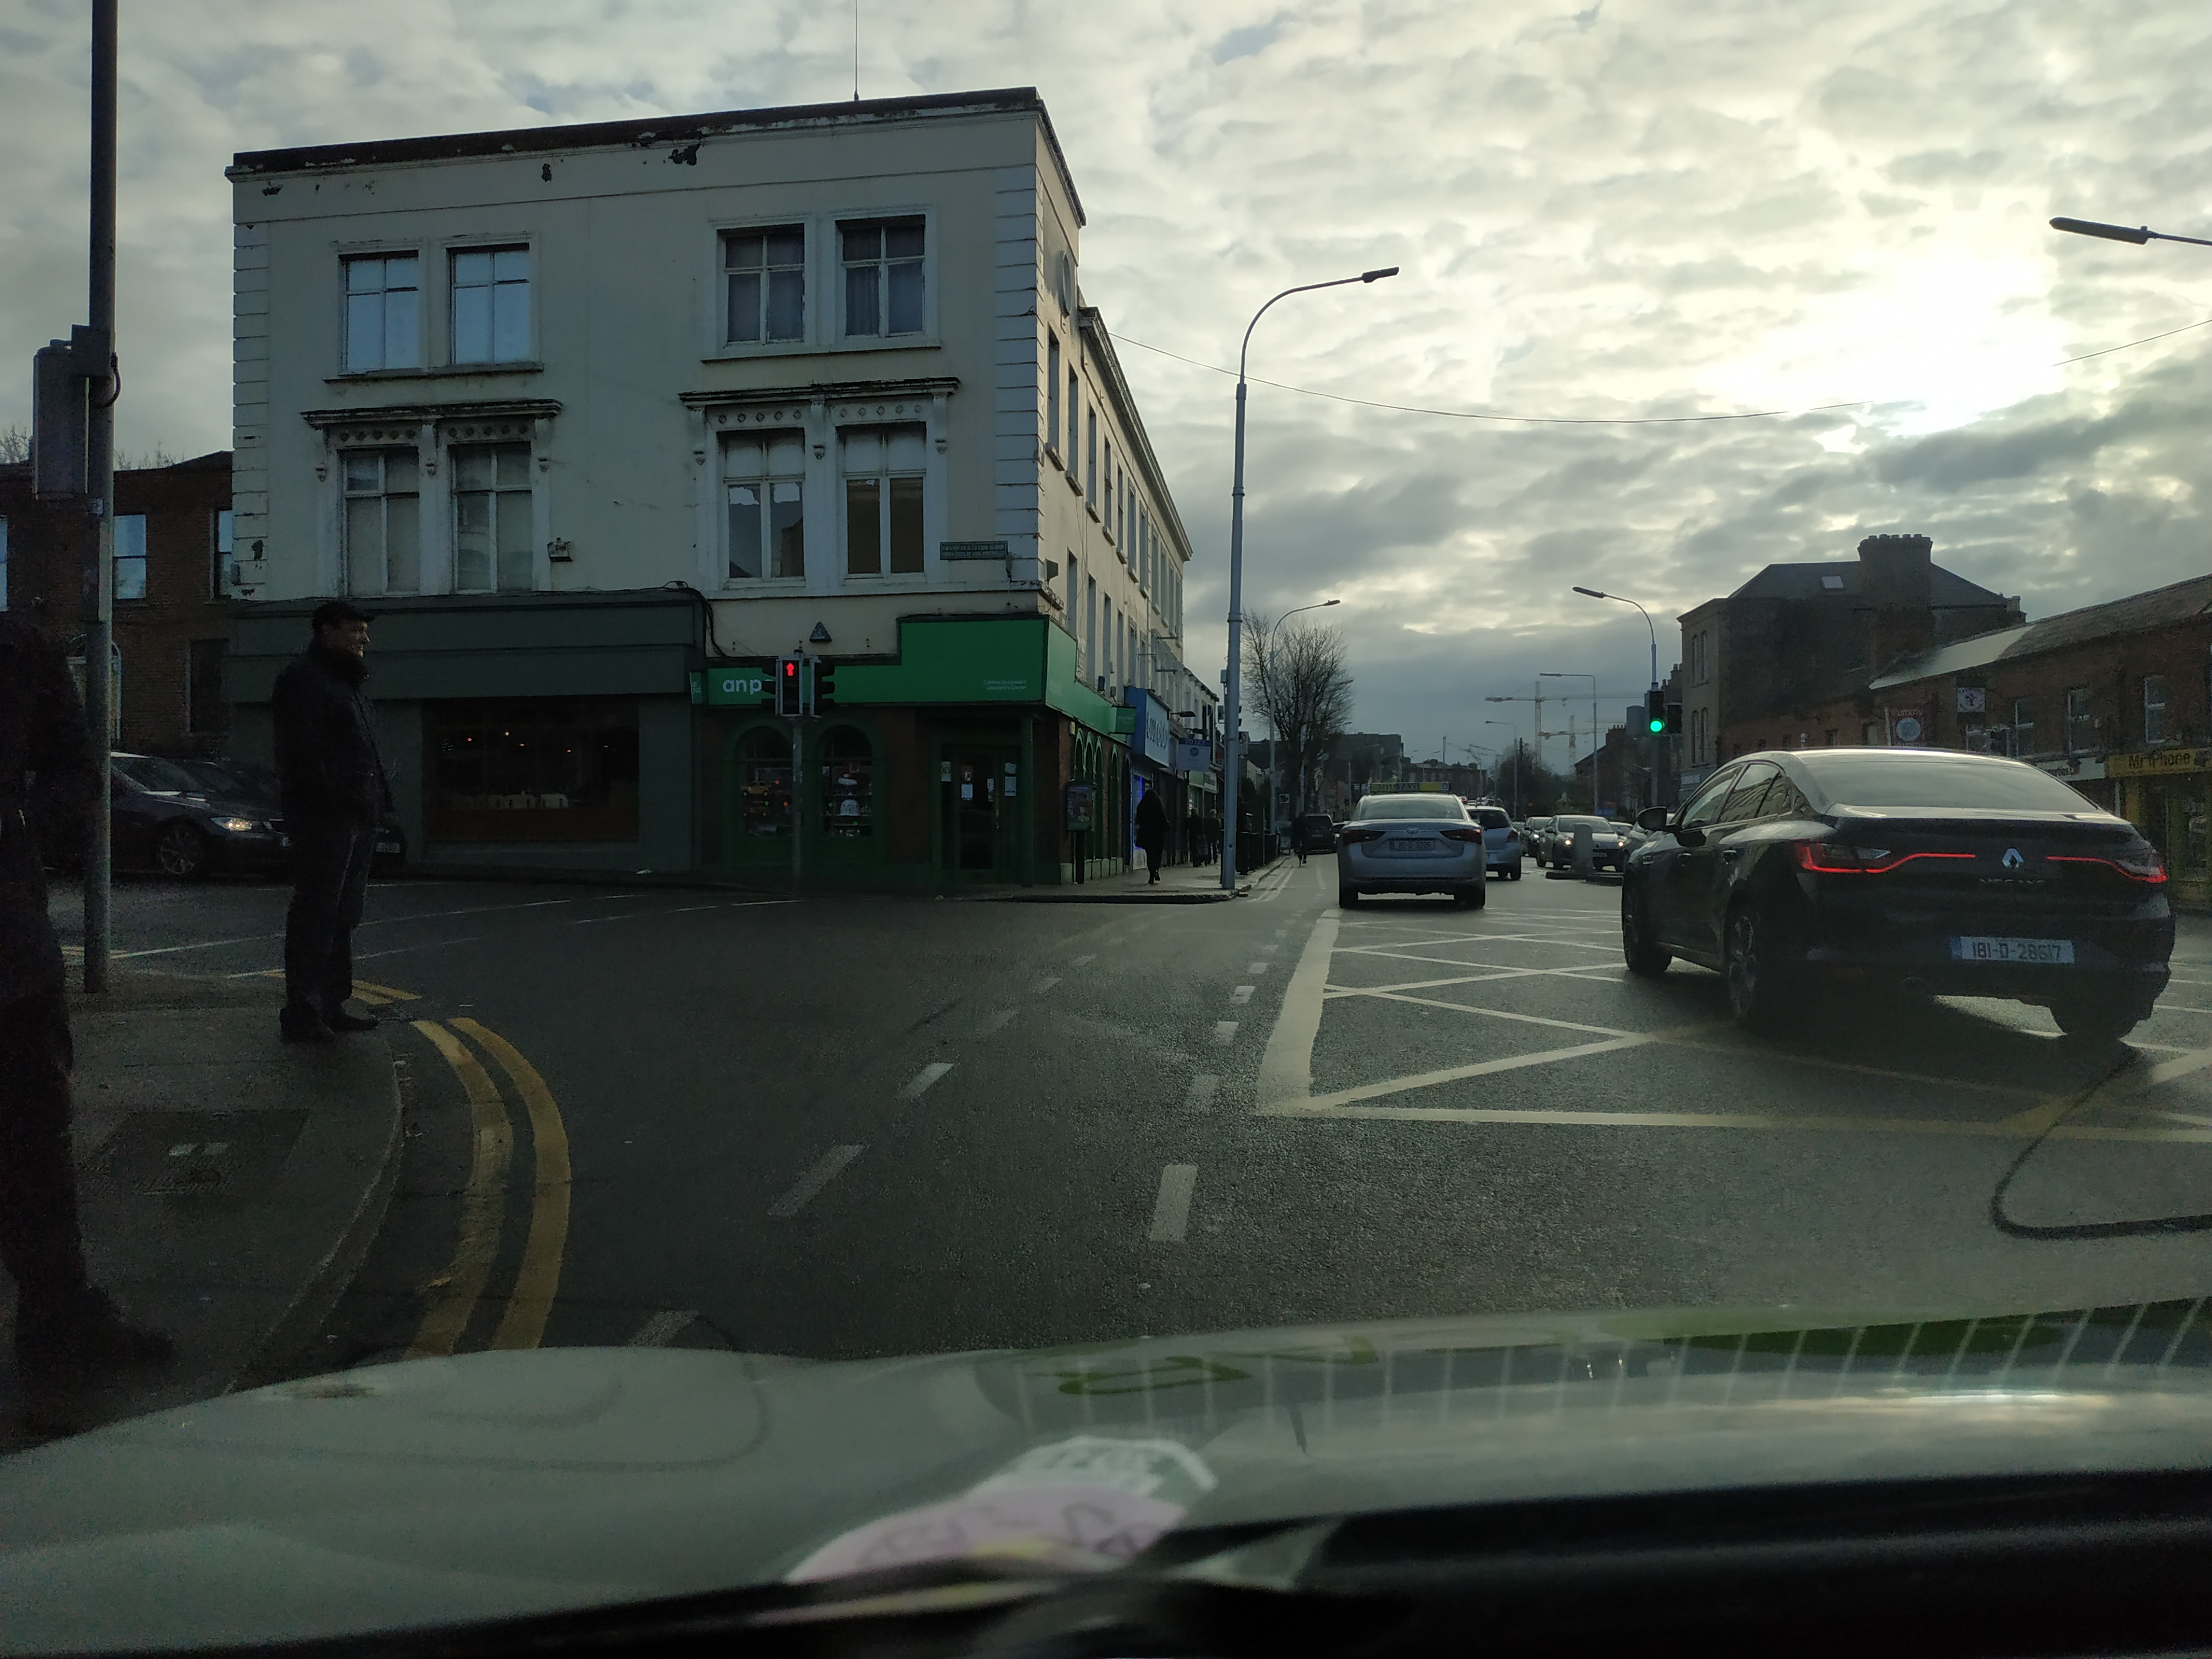Bicycle: (1290, 836, 1309, 867)
Car: (1622, 749, 2175, 1037), (1538, 813, 1625, 871)
Person: (1, 492, 171, 1369), (272, 598, 398, 1039), (1134, 788, 1172, 884), (1184, 808, 1207, 867), (1291, 812, 1309, 863), (1205, 809, 1220, 864)
Taxi: (1330, 782, 1486, 910)
